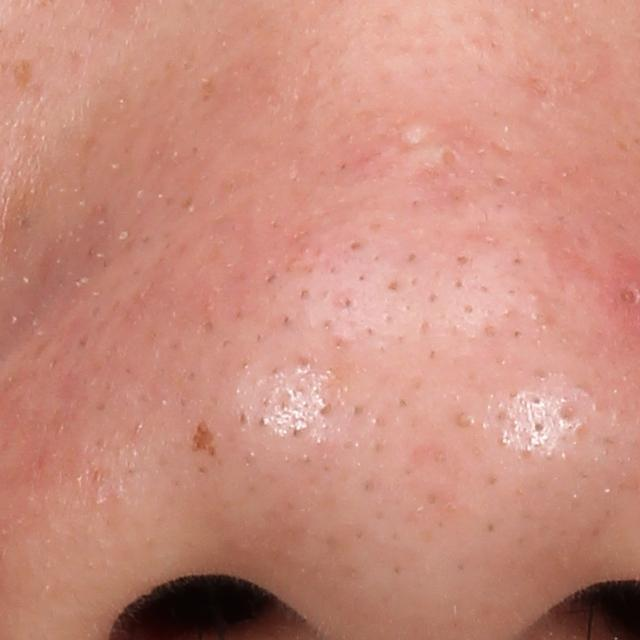comedo: (455, 407, 477, 432), (620, 286, 640, 309), (345, 235, 365, 254), (439, 149, 459, 167)
melasma: (8, 50, 37, 92)
nevus: (190, 425, 215, 450)
